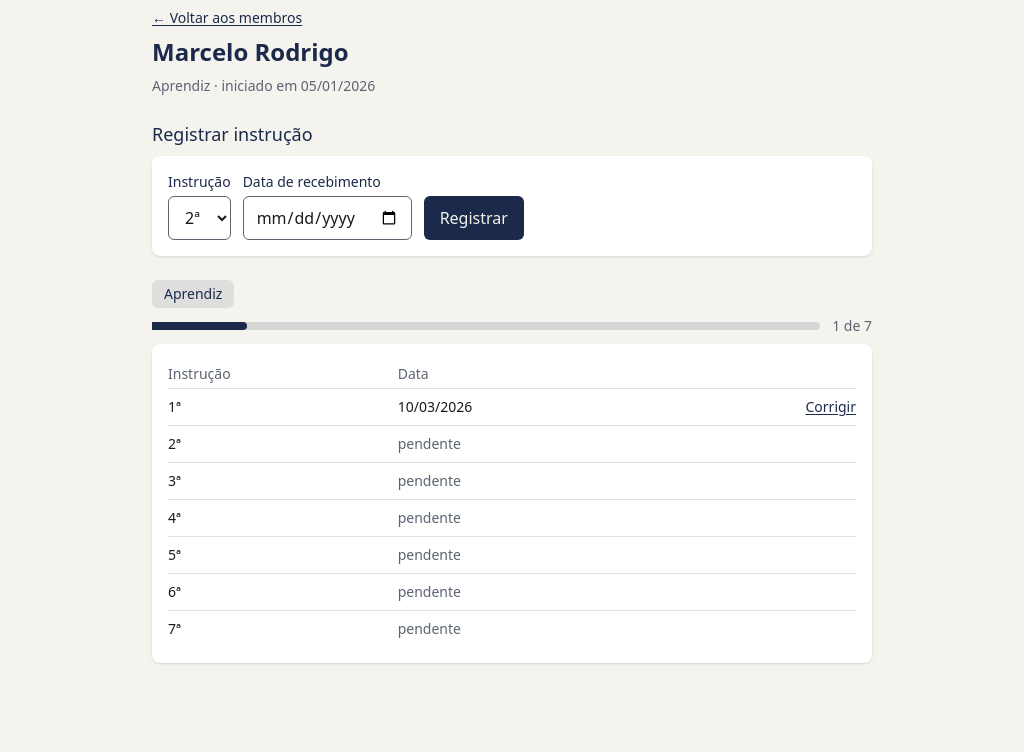
Test: MembroDetalhesPage › corrigida a data, o histórico mostra o de-para e quem corrigiu
The image size is (1024, 752).
Click the button "Corrigir": (831, 407) [806,397,856,417]
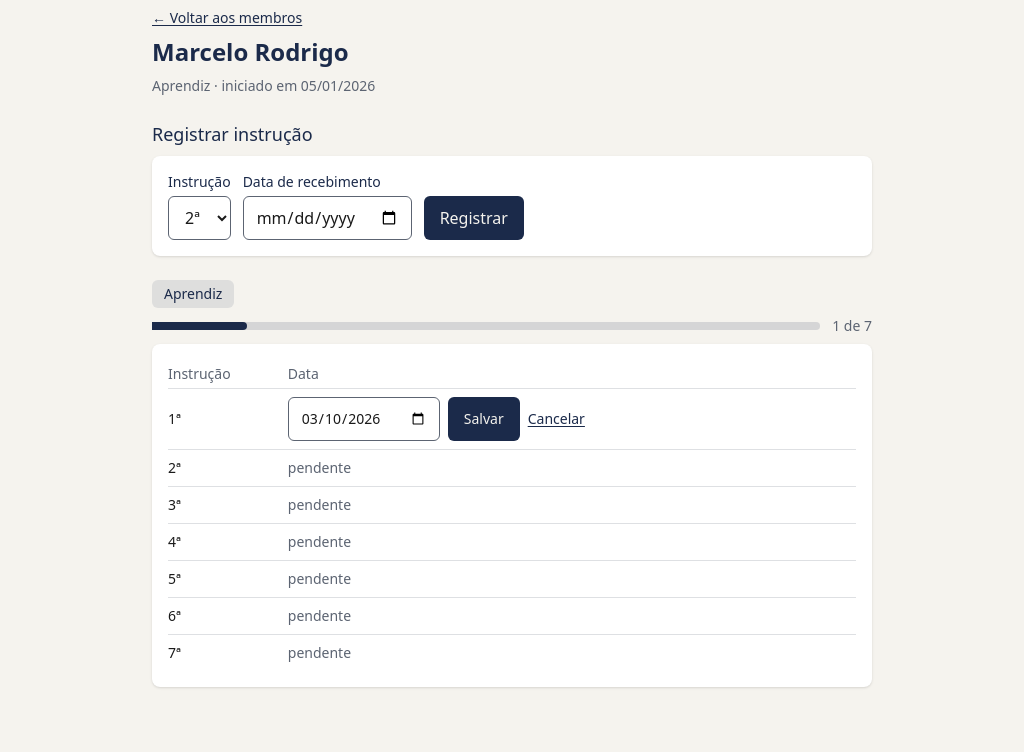
In the date field named "Nova data": (364, 419) [288,397,440,441], type "2026-03-17"
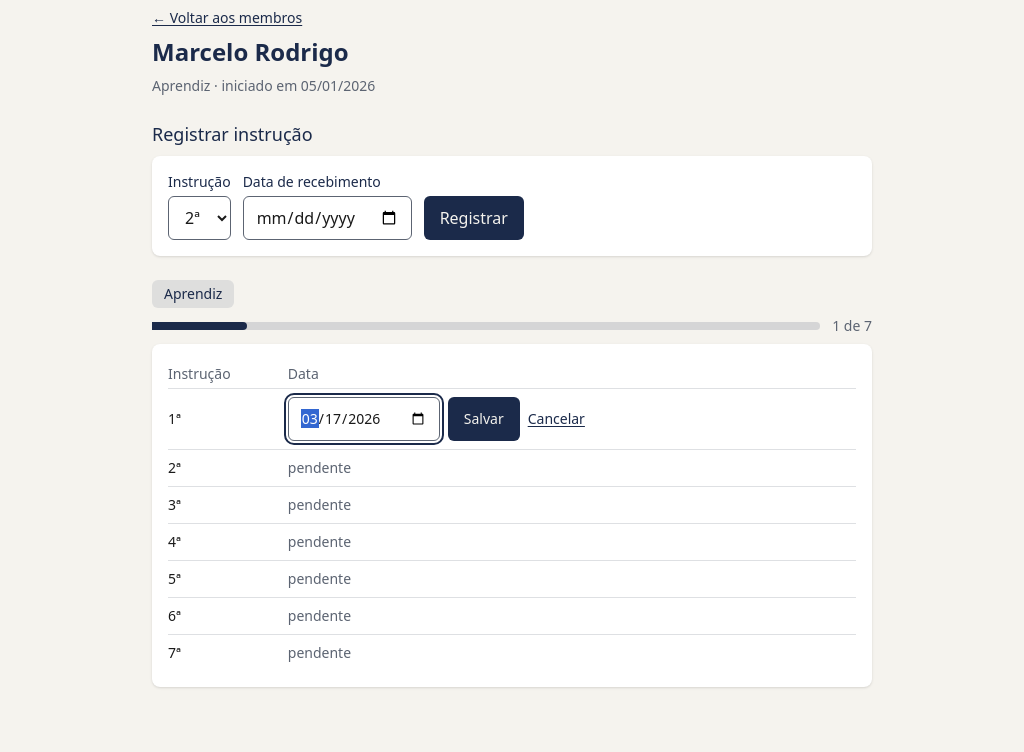
Click the button "Salvar": (484, 419) [448,397,520,441]
(page scrolled)
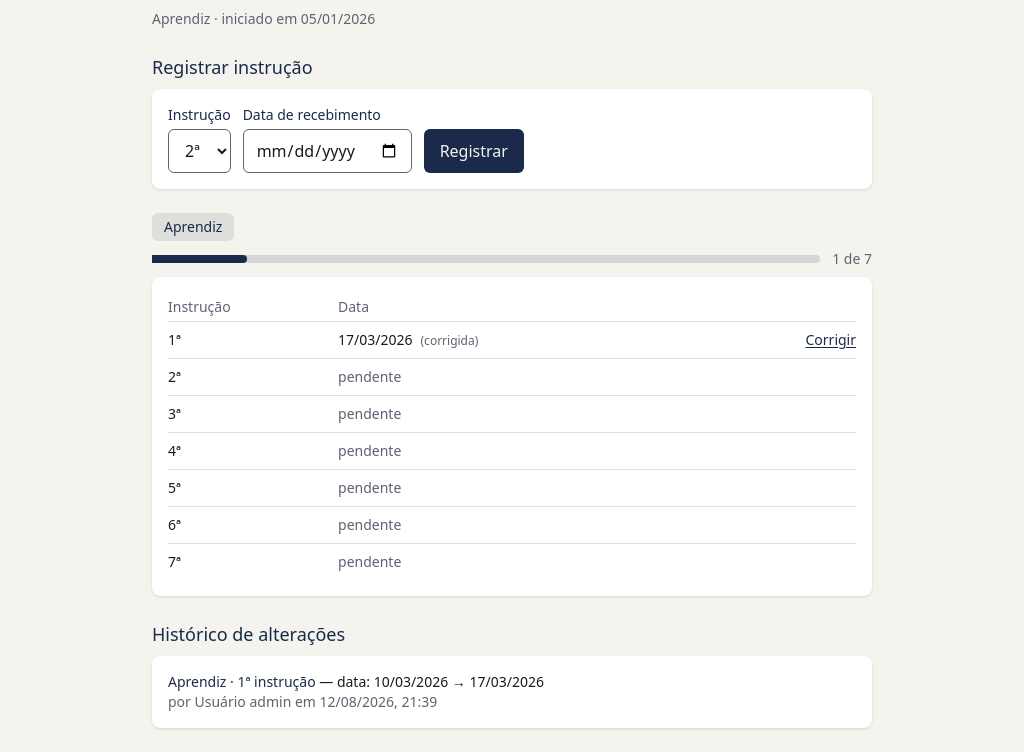
Result: the heading "Histórico de alterações" is shown at [152,622,345,646]
Result: the text "data: 10/03/2026 → 17/03/2026" is shown at [337,672,544,691]
Result: the text "por Usuário admin em 12/08/2026, 21:39" is shown at [168,692,437,711]
